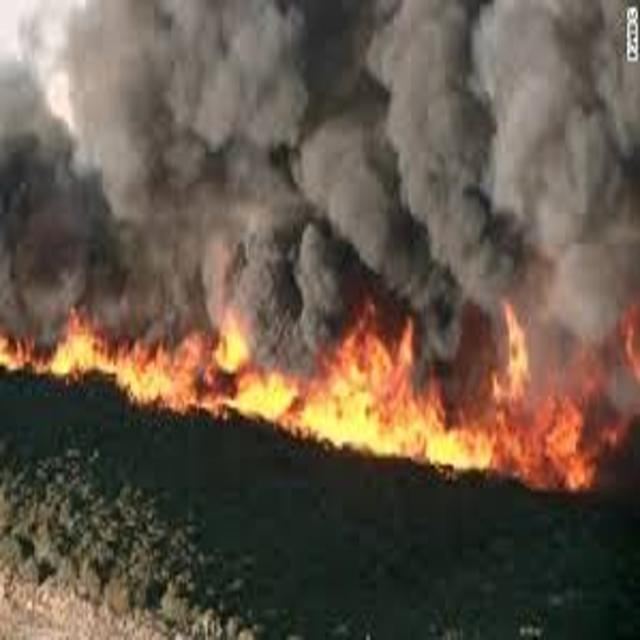Fire: (246, 302, 498, 492), (0, 304, 243, 431), (502, 302, 640, 512)
Smoke: (1, 0, 640, 385)
